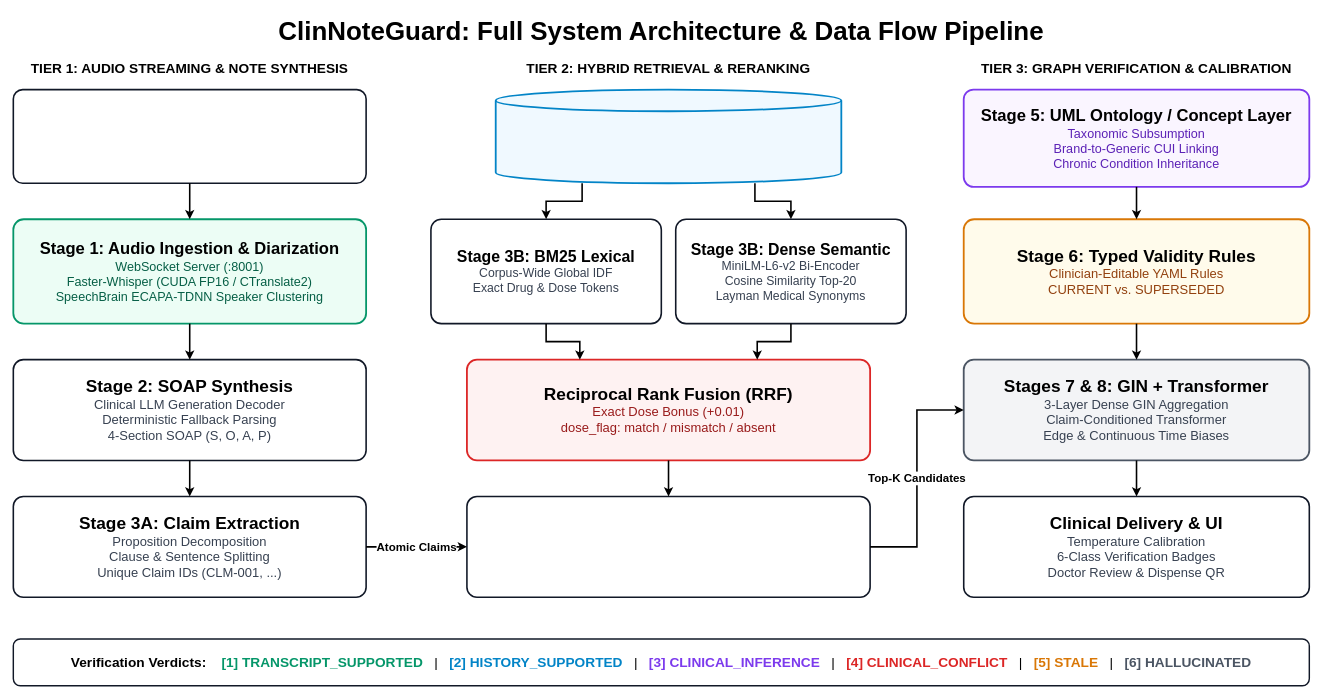
Some shapes in this 1323 by 698 pixel diagram are drawn without their labels. Here are the shapes that lost their labels. From the top down, the box of each, then its label:
(12, 88, 367, 184): Client Audio Device Web / Mobile App Microphone 16kHz Mono PCM Audio Stream
(494, 88, 842, 184): EHR Store / Database Longitudinal Patient History Diagnoses, Meds, Labs, Notes
(466, 495, 871, 598): Stage 4: Cross-Encoder Reranker ms-marco-MiniLM-L-6-v2
